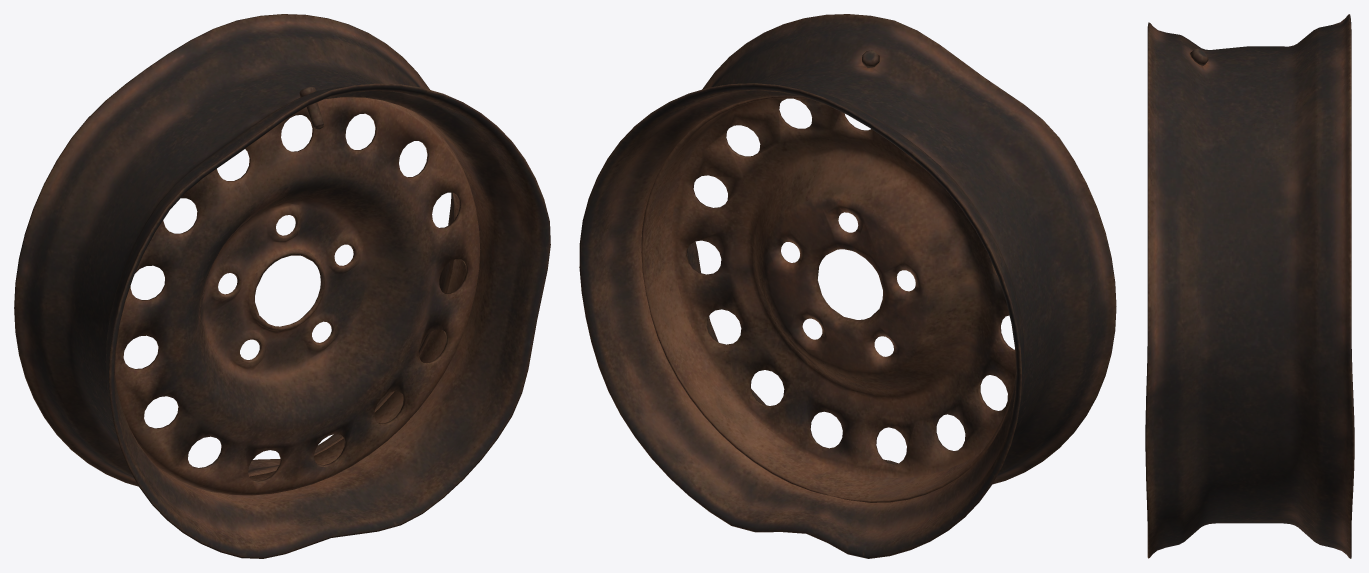
File: lf-rim.glb
3 views of the same model, side by side, from view 1: azimuth 30°, elevation 25°; view 2: azimuth 150°, elevation 25°; view 3: azimuth 270°, elevation 25° (orthographic). The views are drawn at different scales.
Parts seen in each view (by area): view 1: rusted_wheel_rim_01; view 2: rusted_wheel_rim_01; view 3: rusted_wheel_rim_01.
Part boxes in pixels (x1,y1,x2,y2): rusted_wheel_rim_01: [14, 14, 550, 558]; rusted_wheel_rim_01: [579, 14, 1116, 558]; rusted_wheel_rim_01: [1145, 14, 1354, 558].
Size of the model in its own units: 0.4029 by 0.3955 by 0.1541.
1 material, 1 textured.
